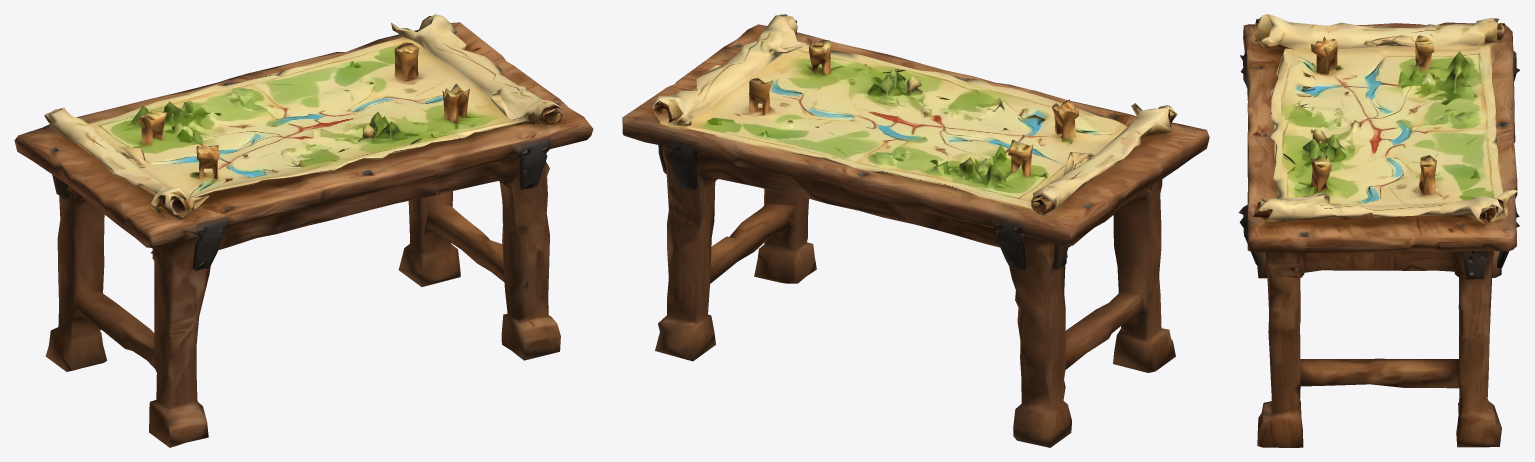
Rendered from vestibule-map-table.glb.
The picture shows the model from 3 angles, left to right: view 1: azimuth 30°, elevation 25°; view 2: azimuth 150°, elevation 25°; view 3: azimuth 270°, elevation 25°; orthographic projection. The views are drawn at different scales.
Parts seen in each view (by area): view 1: vestibule-map-table; view 2: vestibule-map-table; view 3: vestibule-map-table.
Boxes of the visible parts, <box> form: vestibule-map-table: <box>14,14,593,447</box>; vestibule-map-table: <box>622,14,1209,447</box>; vestibule-map-table: <box>1238,14,1519,447</box>.
Bounding box in the file's own units: 1.8 × 1 × 1.
Materials: 1 (1 with a texture image).
